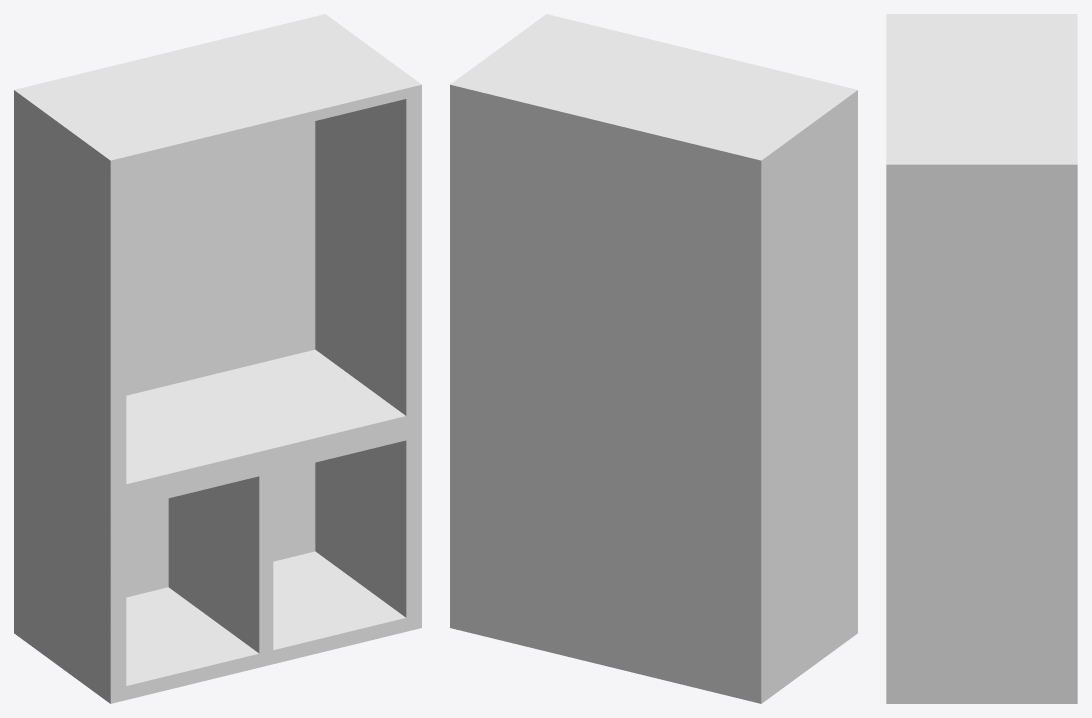
File: Itr_Obj_Fridge1_Body_01.FBX
3 views of the same model, side by side, from view 1: azimuth 30°, elevation 25°; view 2: azimuth 150°, elevation 25°; view 3: azimuth 270°, elevation 25° (orthographic).
Parts seen in each view (by area): view 1: Itr_Obj_Fridge1_Body_01; view 2: Itr_Obj_Fridge1_Body_01; view 3: Itr_Obj_Fridge1_Body_01.
Boxes of the visible parts, <box> form: Itr_Obj_Fridge1_Body_01: <box>14,14,421,703</box>; Itr_Obj_Fridge1_Body_01: <box>450,14,857,703</box>; Itr_Obj_Fridge1_Body_01: <box>886,14,1077,703</box>.
Bounding box in the file's own units: 45.36 × 75.62 × 24.36.
